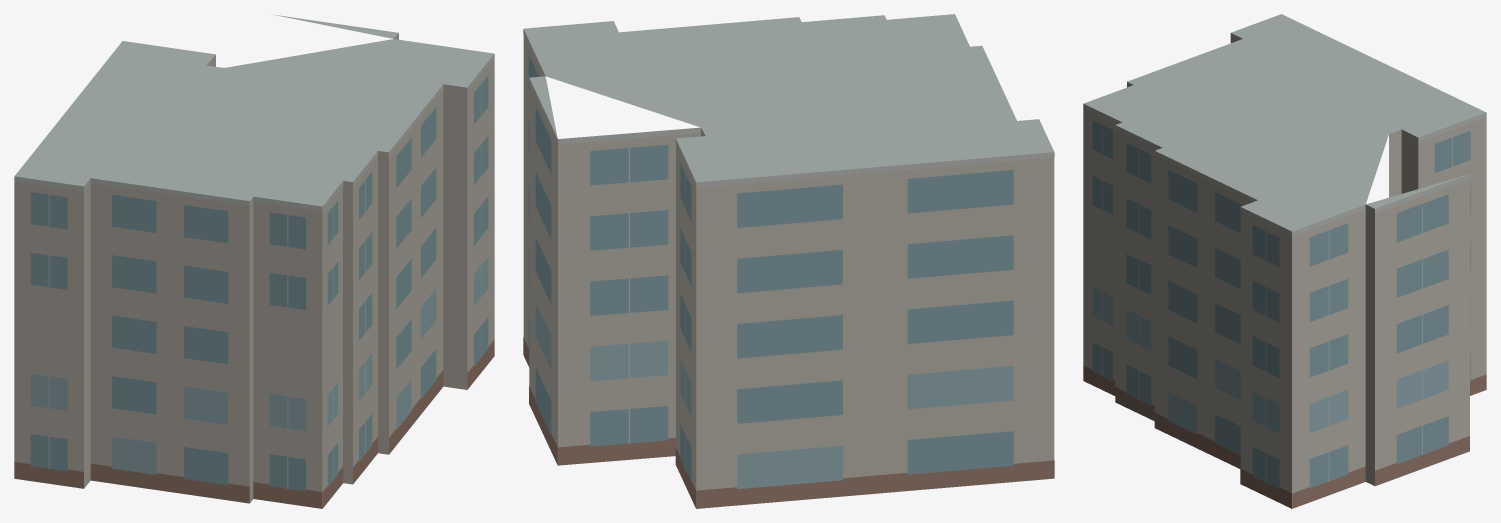
File: survey-upis-32663681.glb
The picture shows the model from 3 angles, left to right: view 1: azimuth 30°, elevation 25°; view 2: azimuth 150°, elevation 25°; view 3: azimuth 270°, elevation 25°; orthographic projection. The views are drawn at different scales.
Parts seen in each view (by area): view 1: survey-upis-32663681.tmp; view 2: survey-upis-32663681.tmp; view 3: survey-upis-32663681.tmp.
Boxes of the visible parts, left/top/right/bottom form: survey-upis-32663681.tmp: left=14, top=14, right=494, bottom=508; survey-upis-32663681.tmp: left=523, top=14, right=1054, bottom=508; survey-upis-32663681.tmp: left=1083, top=14, right=1486, bottom=508.
Size of the model in its own units: 24.4 by 14.5 by 19.11.
